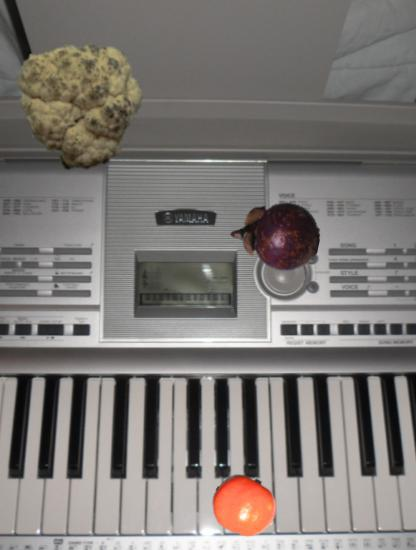Cauliflower: (15, 34, 151, 170)
Clementine: (212, 473, 278, 539)
Mangostan: (231, 190, 320, 279)
